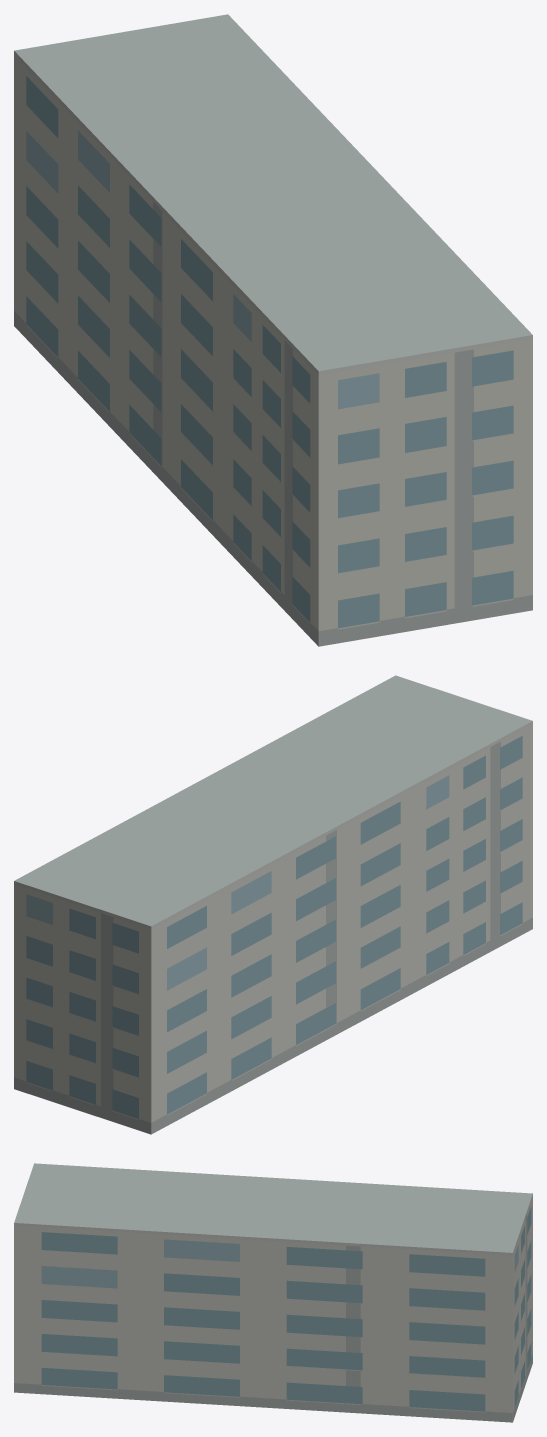
Rendered from residential-9551c2d4-3ebf-4c90-bc57-df0d2bfa3643.glb.
The picture shows the model from 3 angles, top to bottom: view 1: azimuth 30°, elevation 25°; view 2: azimuth 150°, elevation 25°; view 3: azimuth 270°, elevation 25°; orthographic projection. The views are drawn at different scales.
Visible parts, largest first — view 1: residential-9551c2d4-3ebf-4c90-bc57-df0d2bfa3643.tmp; view 2: residential-9551c2d4-3ebf-4c90-bc57-df0d2bfa3643.tmp; view 3: residential-9551c2d4-3ebf-4c90-bc57-df0d2bfa3643.tmp.
Part boxes in pixels (x1,y1,x2,y2): residential-9551c2d4-3ebf-4c90-bc57-df0d2bfa3643.tmp: (14, 14, 532, 646); residential-9551c2d4-3ebf-4c90-bc57-df0d2bfa3643.tmp: (14, 675, 532, 1134); residential-9551c2d4-3ebf-4c90-bc57-df0d2bfa3643.tmp: (14, 1163, 532, 1422).
Size of the model in its own units: 17.28 by 15.25 by 42.28.
